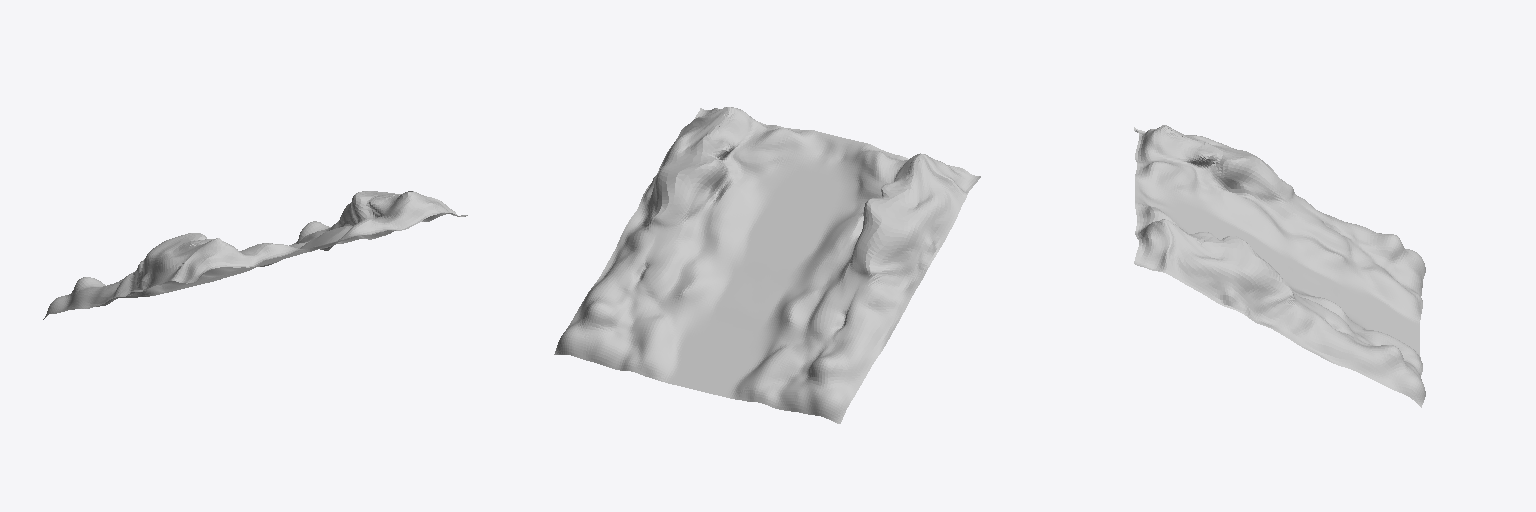
File: terrain1.obj
3 renders of one model, left to right at view 1: azimuth 30°, elevation 25°; view 2: azimuth 150°, elevation 25°; view 3: azimuth 270°, elevation 25°, orthographic.
Visible parts, largest first — view 1: Landscape; view 2: Landscape; view 3: Landscape.
Part boxes in pixels (x1,y1,x2,y2): Landscape: (43, 191, 467, 319); Landscape: (554, 107, 980, 423); Landscape: (1134, 125, 1425, 407).
Size of the model in its own units: 202 by 112 by 177.